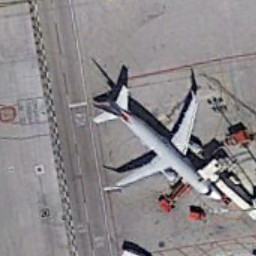Airplane: (67, 61, 235, 223)
